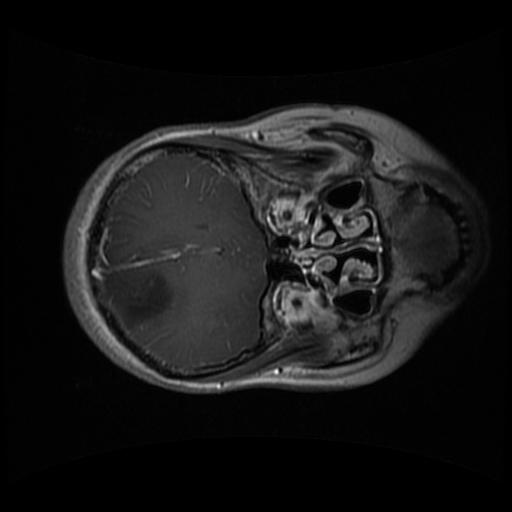glioma: (104, 267, 174, 332)
